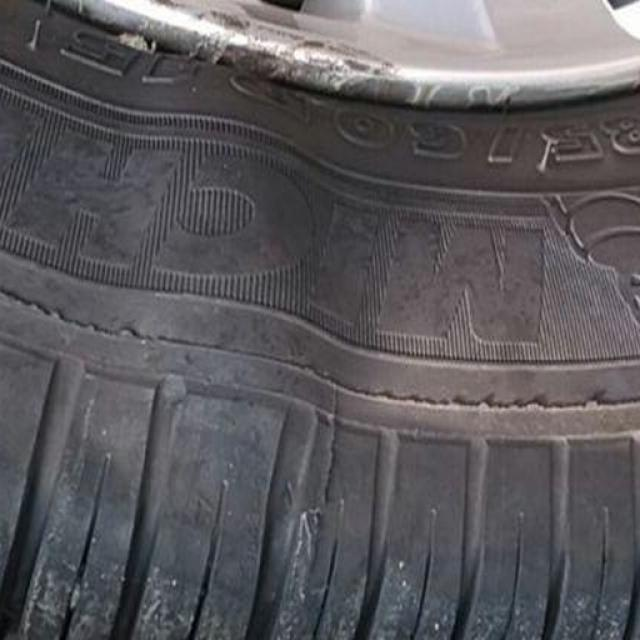Bulge: (134, 55, 328, 435)
